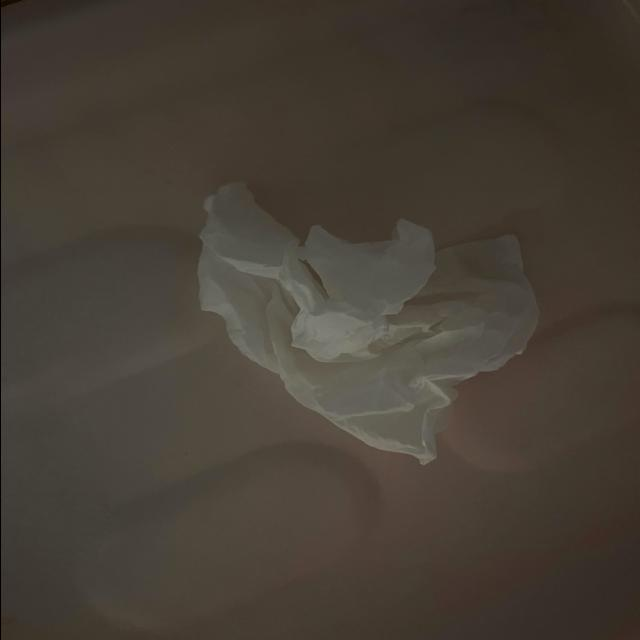Paper: (212, 161, 512, 458)
